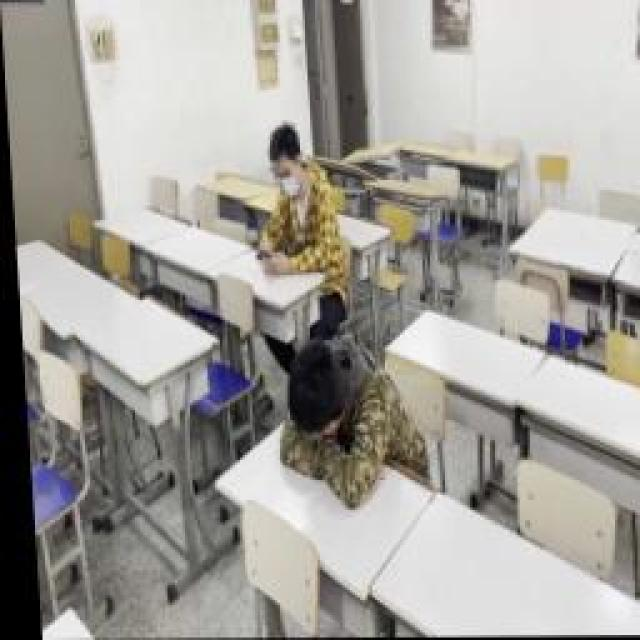phone: (247, 125, 335, 270)
sleep: (268, 340, 390, 510)
